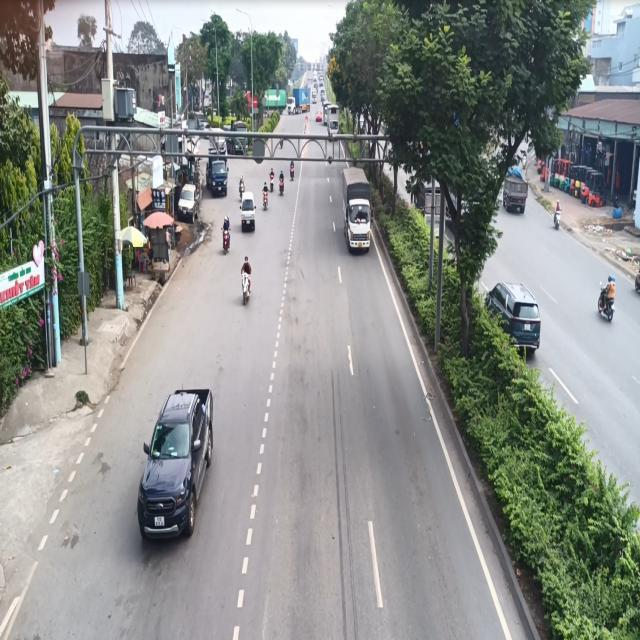car: (136, 387, 214, 541), (483, 280, 541, 357), (170, 179, 208, 224), (238, 193, 262, 242)
motorcycle: (240, 270, 251, 304)
person: (599, 274, 616, 312), (240, 256, 251, 294), (553, 199, 561, 229)
truck: (340, 166, 372, 254)
